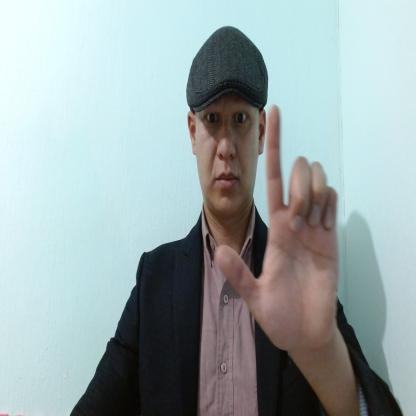L: (215, 103, 339, 352)
